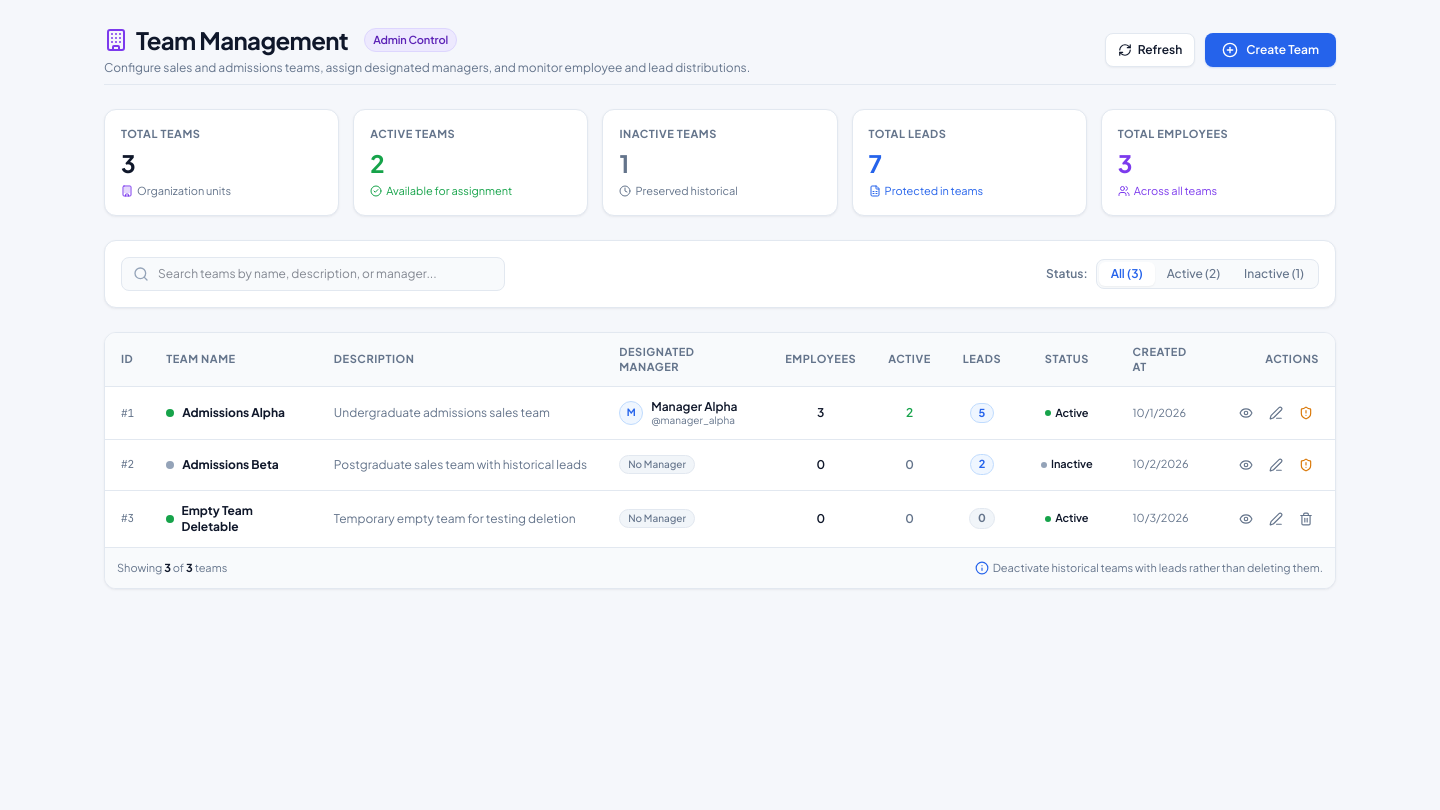
Test: Skill Move Sales CRM — Phase 4: Team Management Interface › 3. Create Team Workflow & Constraints › shows duplicate team name error returned from backend API
Expected: the text "Admissions Alpha" is shown, x1=182 y1=405 x2=285 y2=421
Click the button with id "create-team-btn": (1271,50) x1=1205 y1=33 x2=1336 y2=67
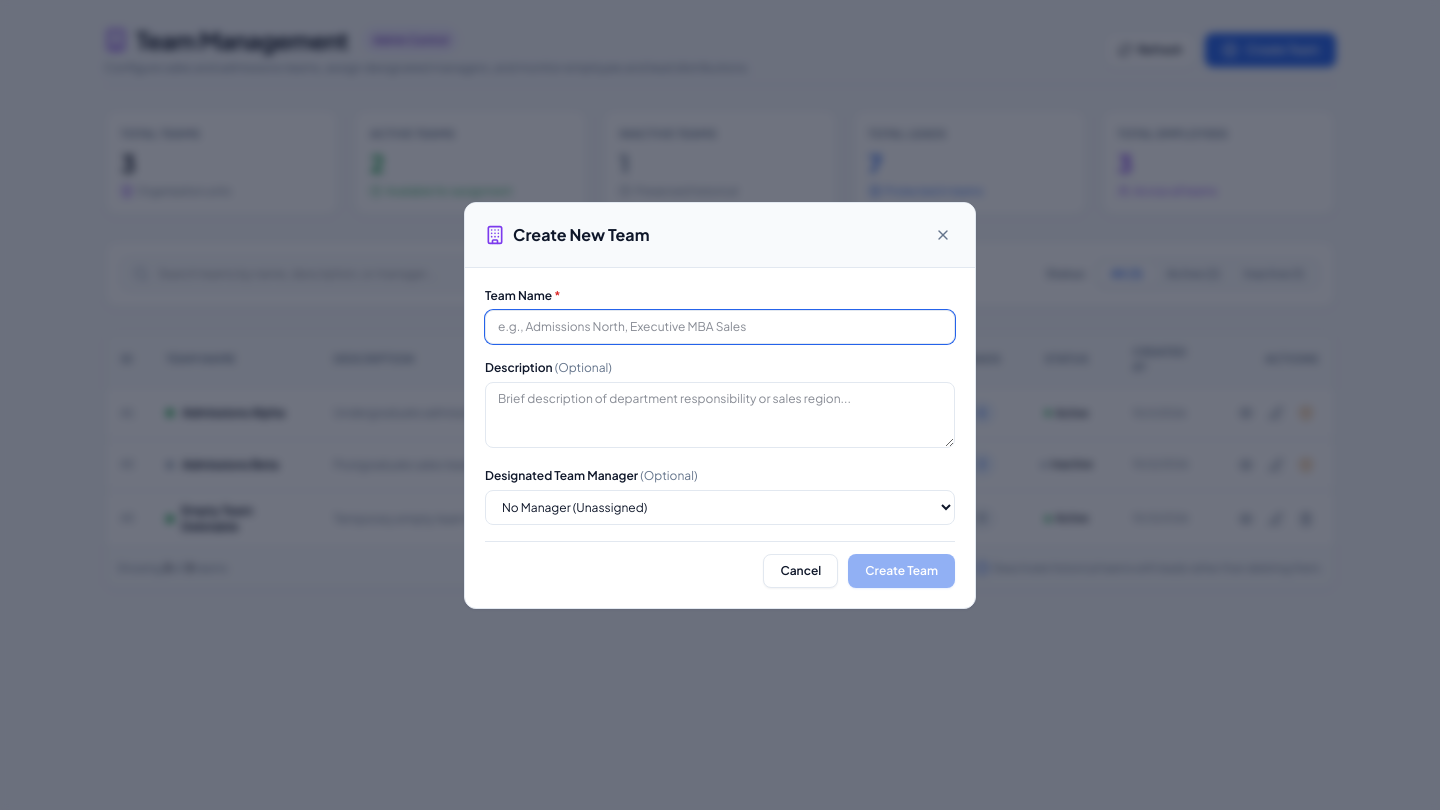
In the field with id "create-team-name-input": (720,326) x1=485 y1=310 x2=955 y2=344, type "Admissions Alpha"
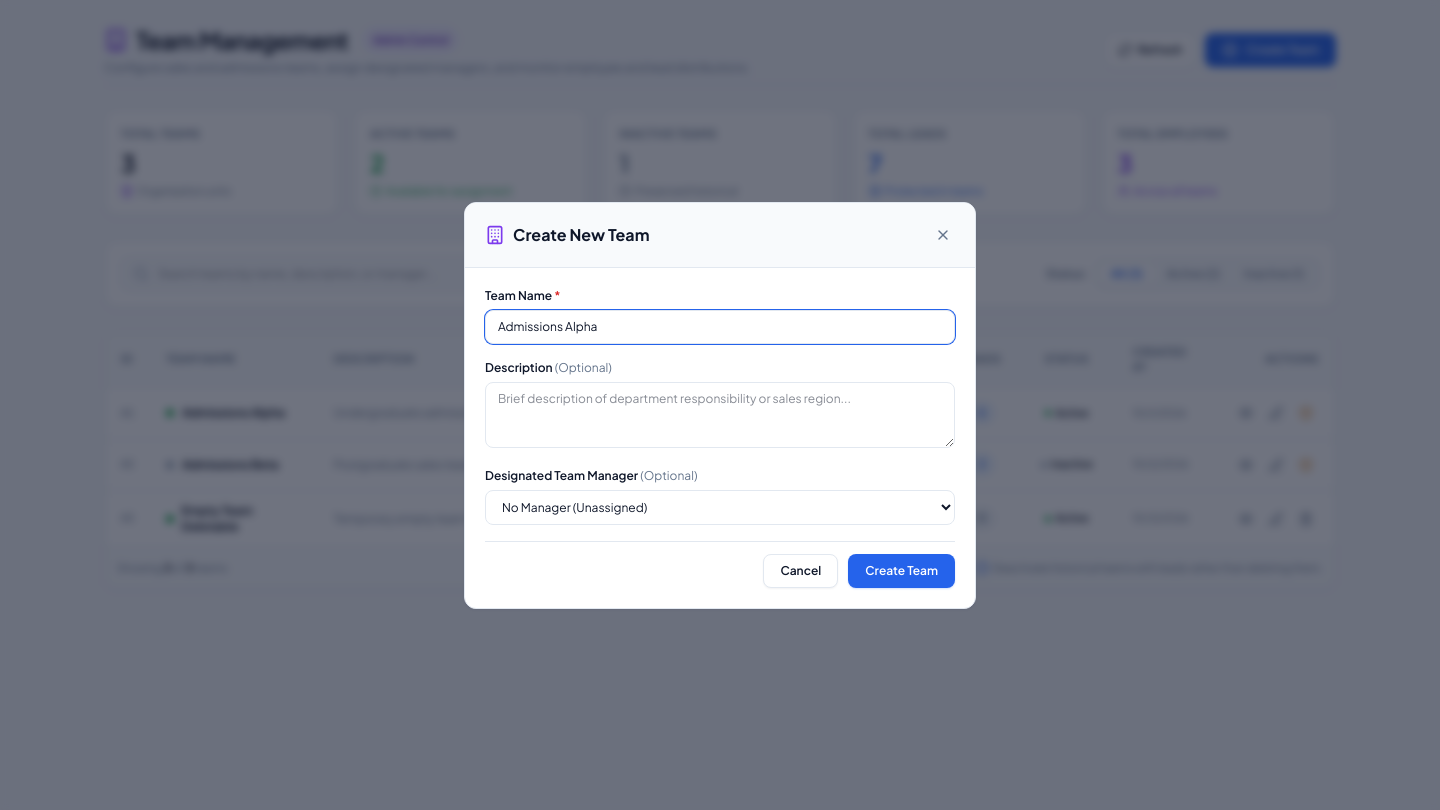
Click the button with id "submit-create-team-btn": (902,570) x1=848 y1=554 x2=955 y2=588
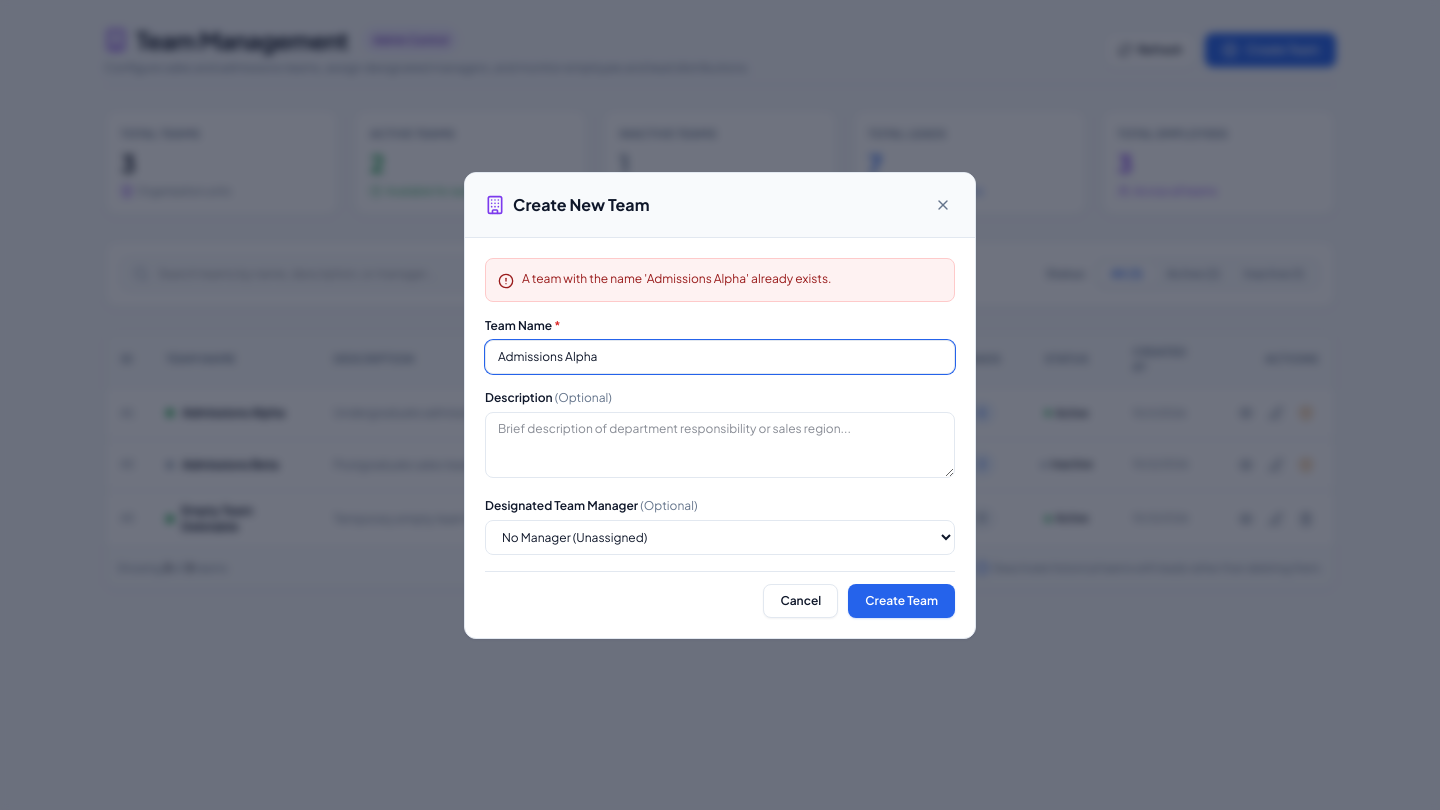
Result: the text "A team with the name 'Admissions Alpha' already exists." is shown at x1=522 y1=270 x2=832 y2=286
